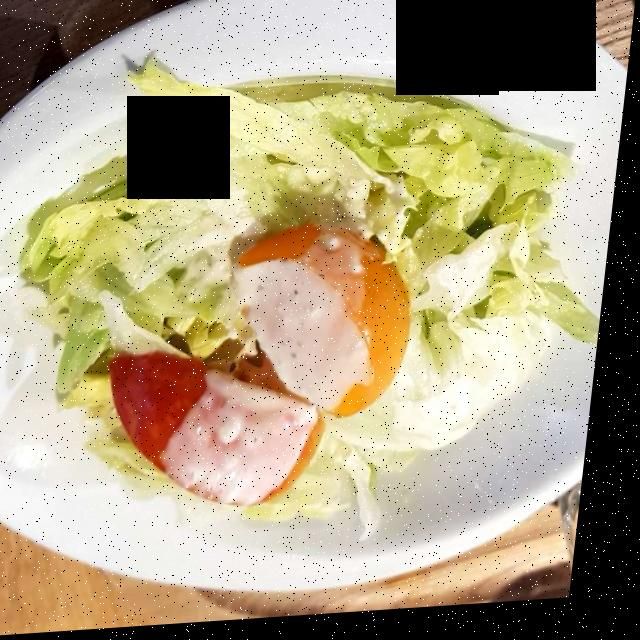french-salad-dressing: (167, 192, 388, 512)
salad-leaf-salad-green: (36, 69, 593, 528)
tomato-raw: (113, 234, 429, 506)
